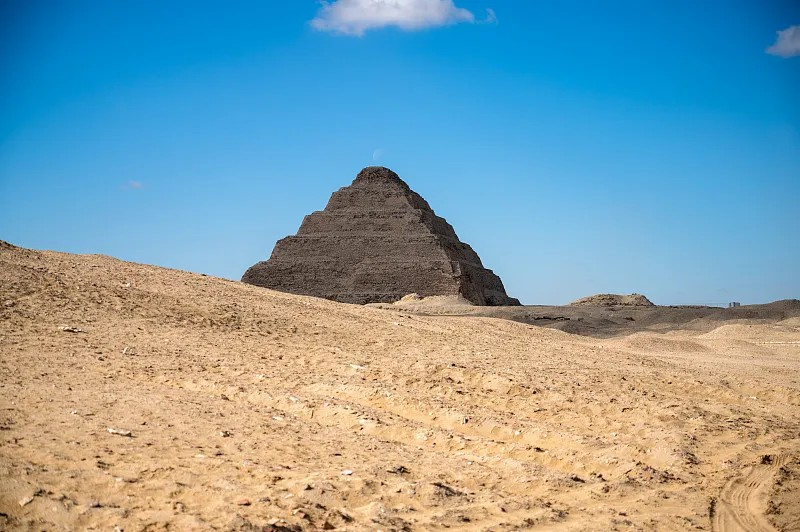Pyramid: (240, 166, 519, 305)
